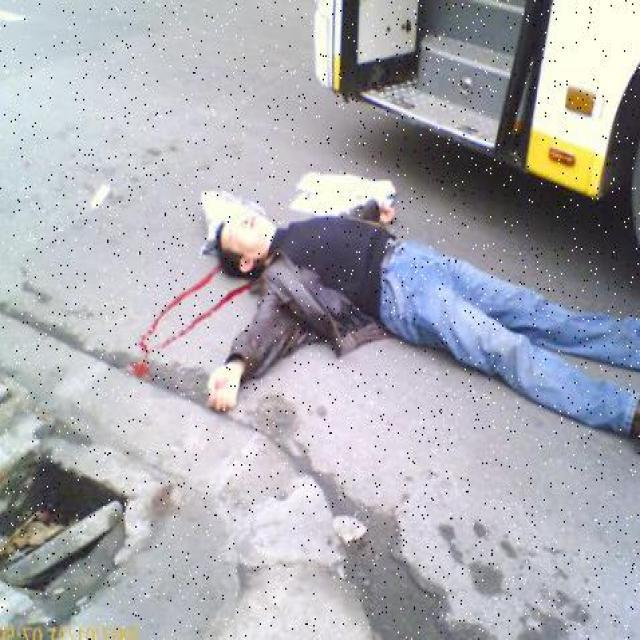fall: (209, 199, 639, 434)
